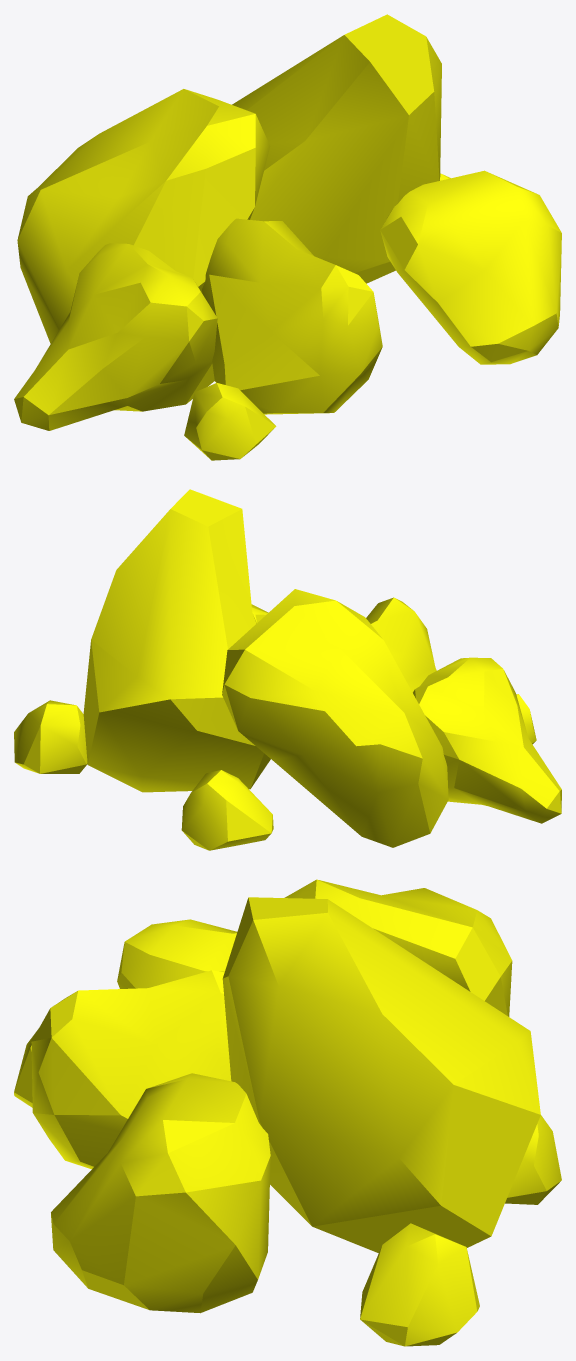
Rendered from kaykit-stone-chunks-small.glb.
3 renders of one model, top to bottom at view 1: azimuth 30°, elevation 25°; view 2: azimuth 150°, elevation 25°; view 3: azimuth 270°, elevation 25°, orthographic. The views are drawn at different scales.
Visible parts, largest first — view 1: Stone_Chunks_Small; view 2: Stone_Chunks_Small; view 3: Stone_Chunks_Small.
Part boxes in pixels (box(x1,y1,x2,y2)): Stone_Chunks_Small: box(14, 14, 561, 460); Stone_Chunks_Small: box(14, 489, 561, 850); Stone_Chunks_Small: box(14, 879, 561, 1346).
Bounding box in the file's own units: 1.12 × 0.5792 × 0.7861.
